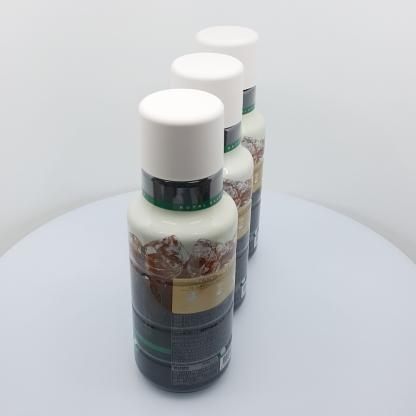--------1-1L: (127, 88, 238, 393)
